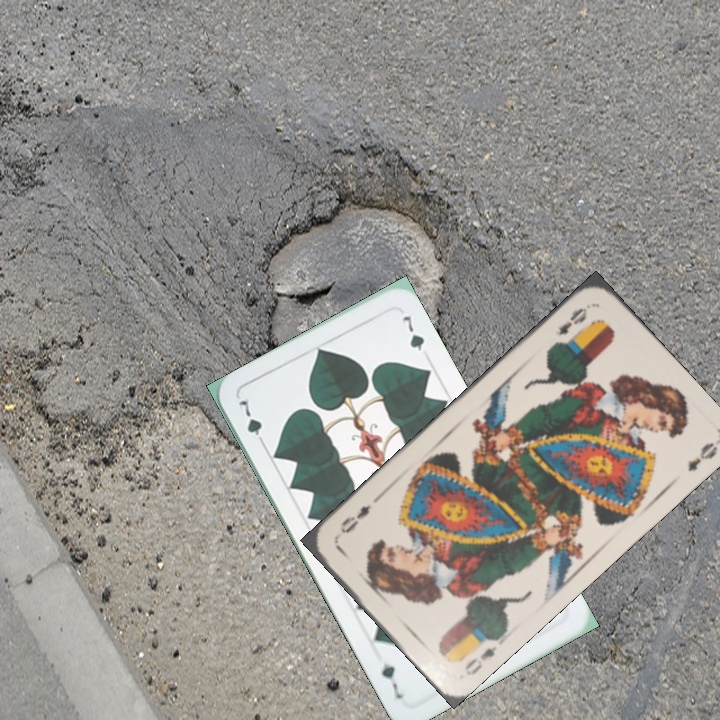EO: (549, 301, 593, 348), (460, 641, 500, 679)
G7: (234, 396, 269, 450)
